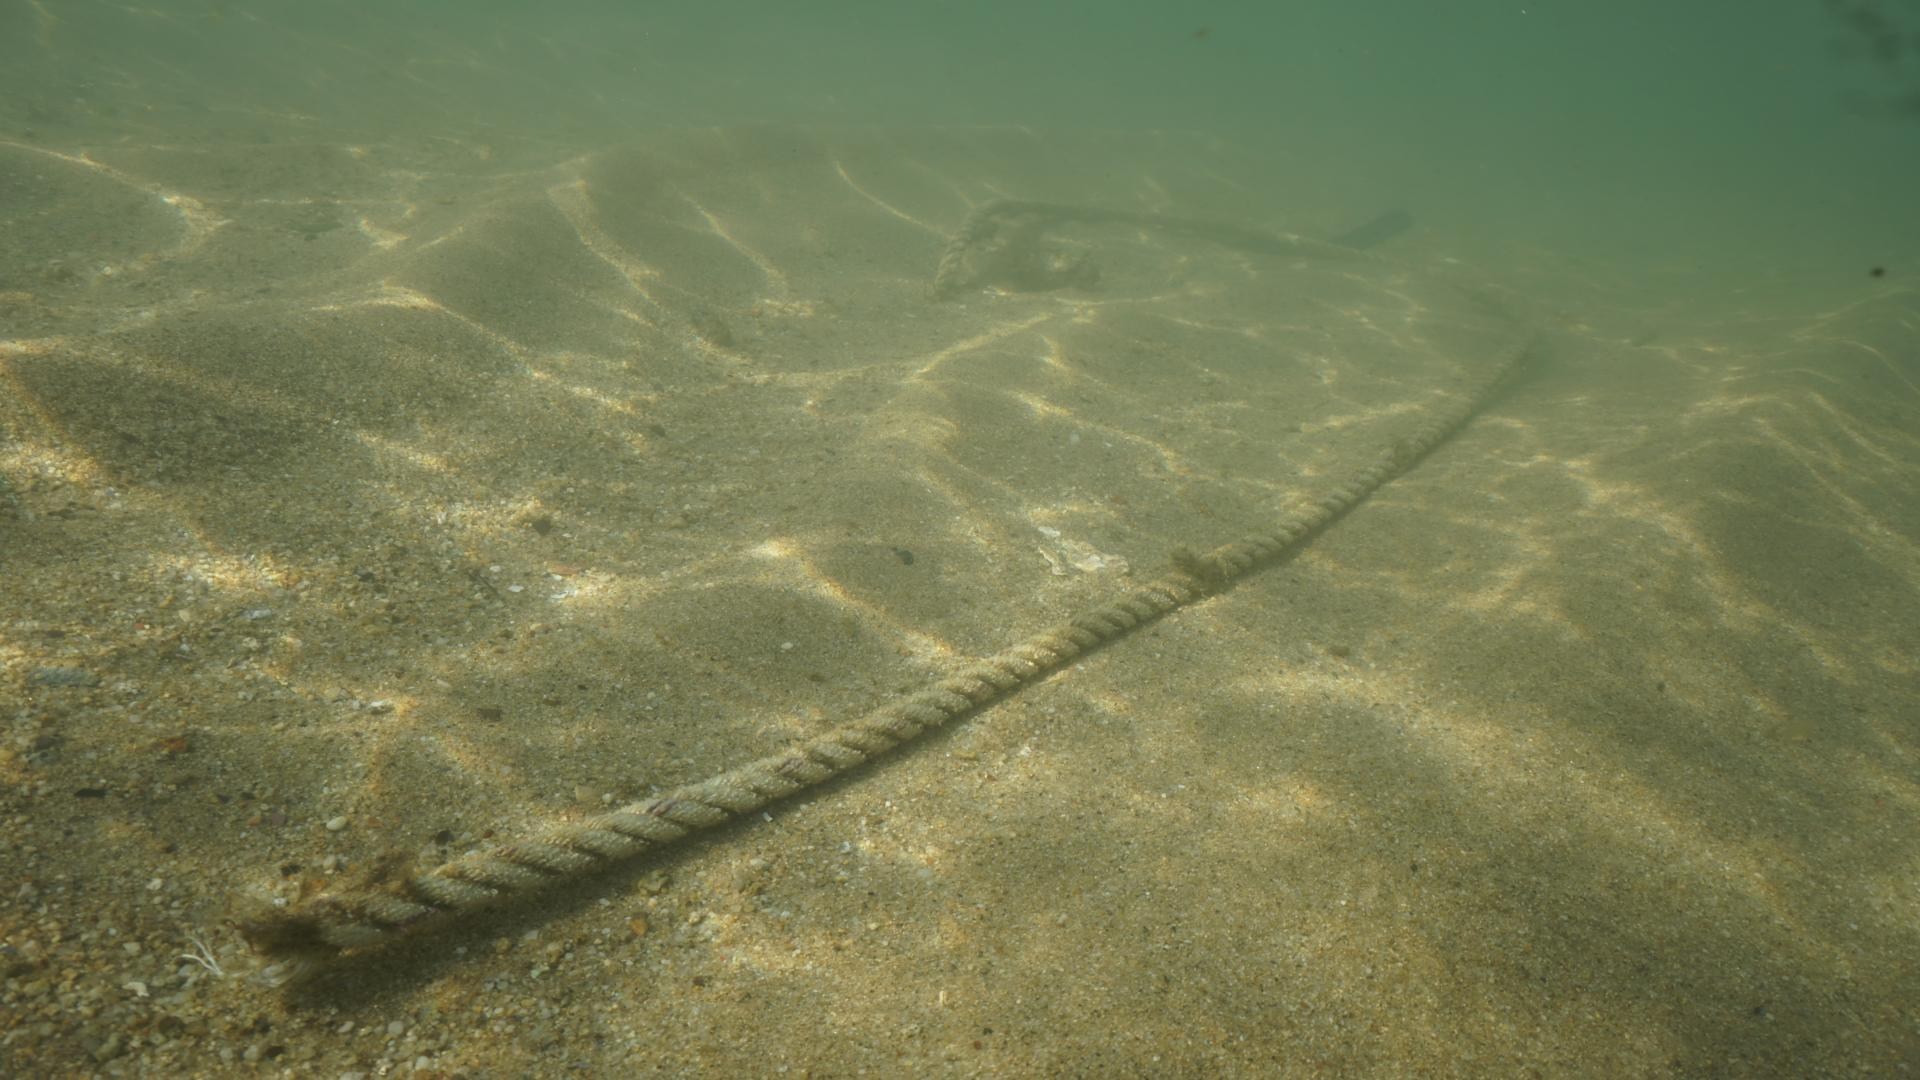rope: (338, 189, 1549, 997)
